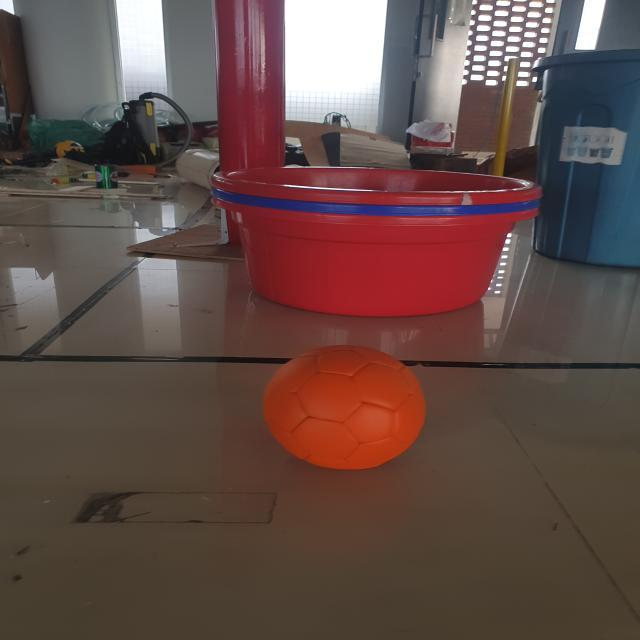bola: (258, 338, 431, 478)
